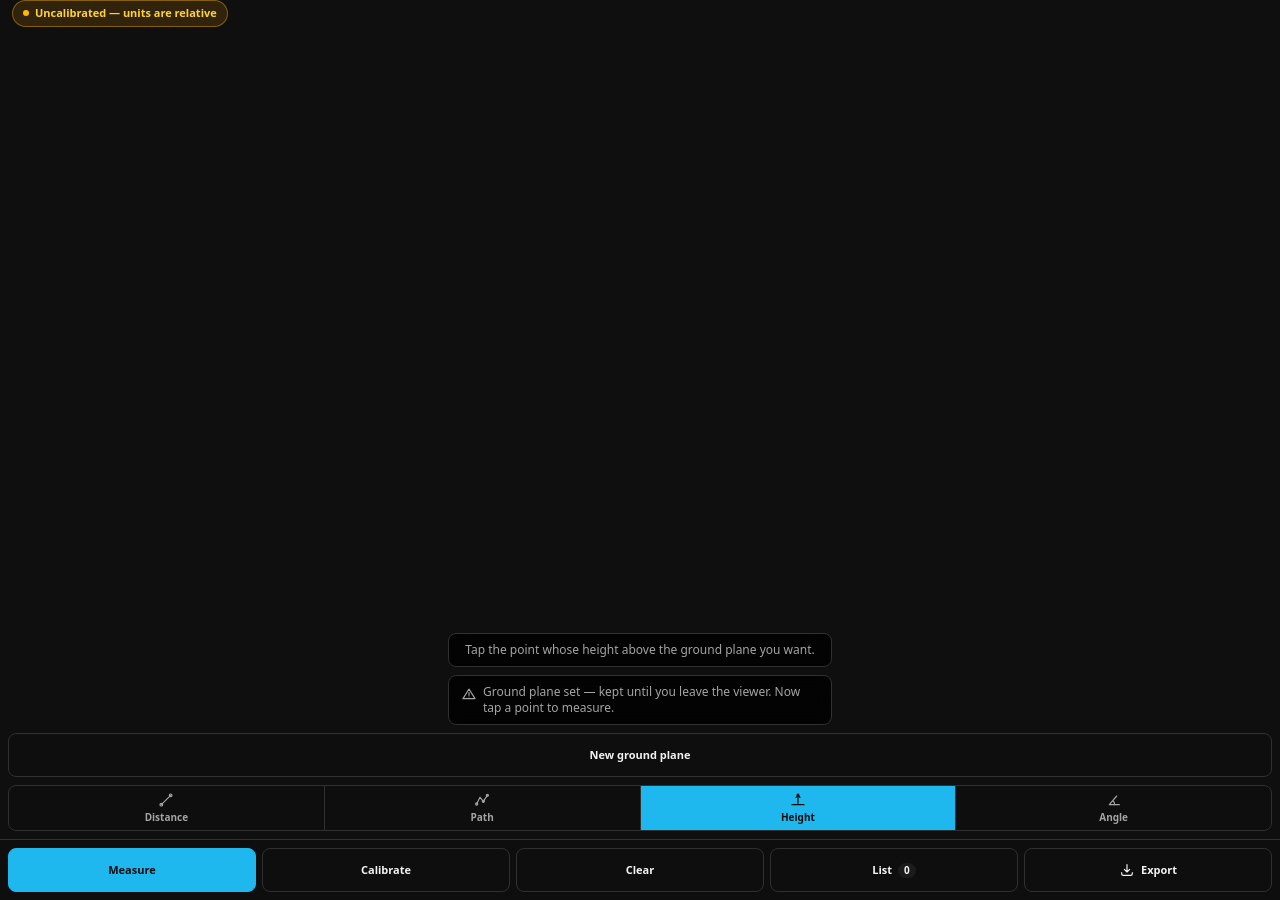
Test: tool switcher › offers a fresh ground plane once one is set
Click the button "New ground plane" at (640, 755), box [8, 733, 1272, 777]
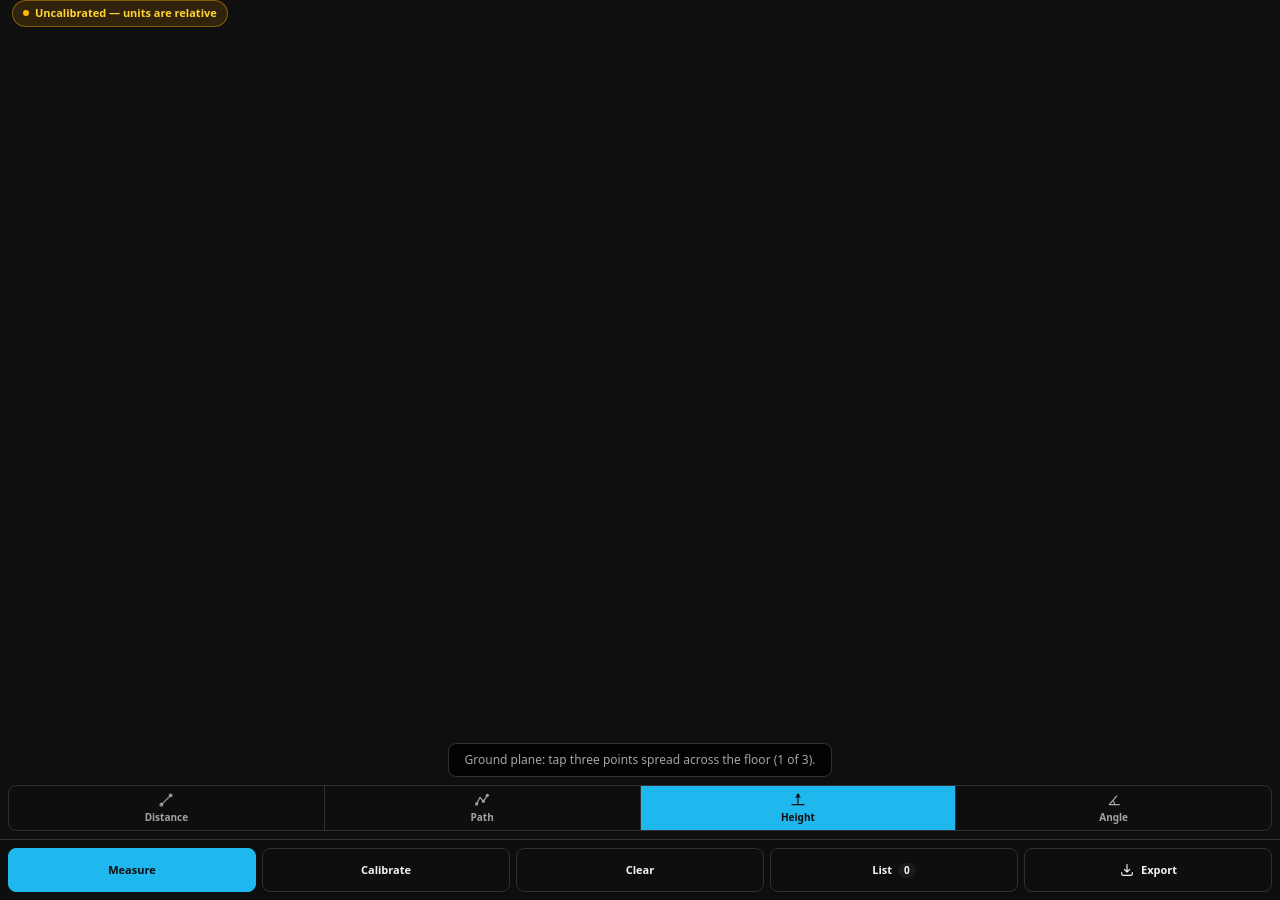
expect the text with test id "measure-prompt" shows "three points": met, box [464, 751, 816, 768]
